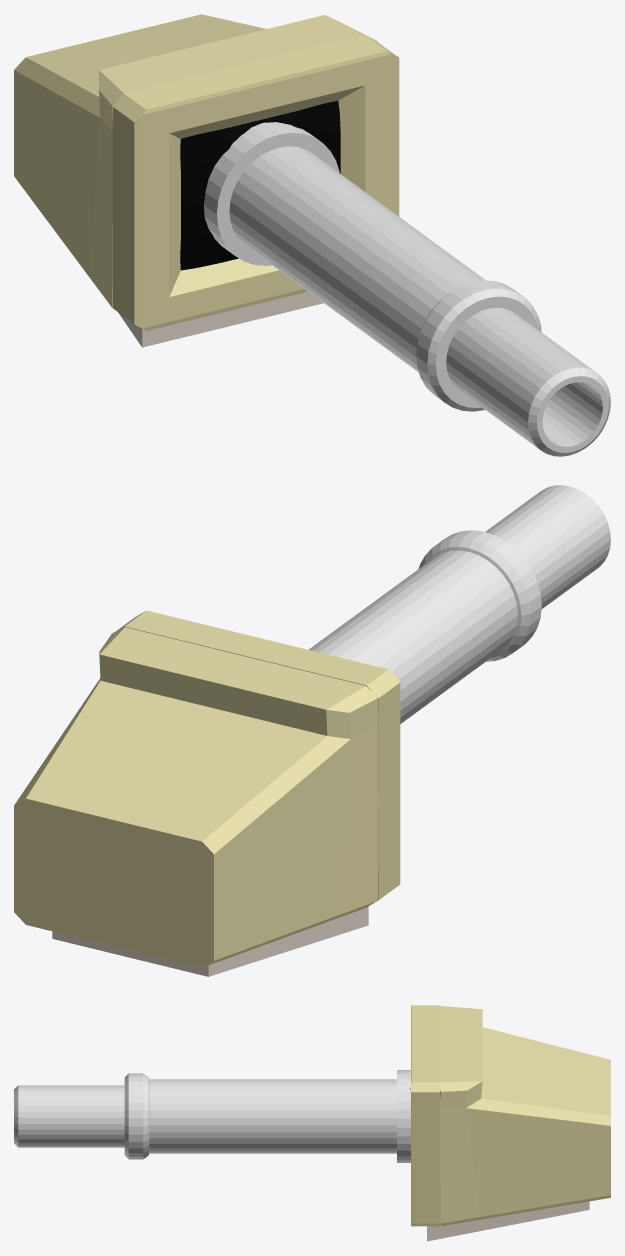
File: Goober with gun v_2 (no legs).fbx
The picture shows the model from 3 angles, top to bottom: view 1: azimuth 30°, elevation 25°; view 2: azimuth 150°, elevation 25°; view 3: azimuth 270°, elevation 25°; orthographic projection. The views are drawn at different scales.
Parts seen in each view (by area): view 1: Cube.027, Cylinder.004, Cube.029, Cube.028; view 2: Cube.027, Cylinder.004, Cube.028; view 3: Cube.027, Cylinder.004, Cube.028.
Part boxes in pixels (x1,y1,x2,y2): Cube.027: [14, 14, 399, 330]; Cylinder.004: [204, 116, 610, 456]; Cube.029: [180, 100, 340, 270]; Cube.028: [118, 291, 323, 347]; Cube.027: [14, 610, 400, 967]; Cylinder.004: [309, 485, 610, 723]; Cube.028: [52, 906, 368, 976]; Cube.027: [411, 1005, 610, 1226]; Cylinder.004: [14, 1070, 410, 1162]; Cube.028: [427, 1201, 589, 1241].
Size of the model in its own units: 652 by 584 by 1952.
